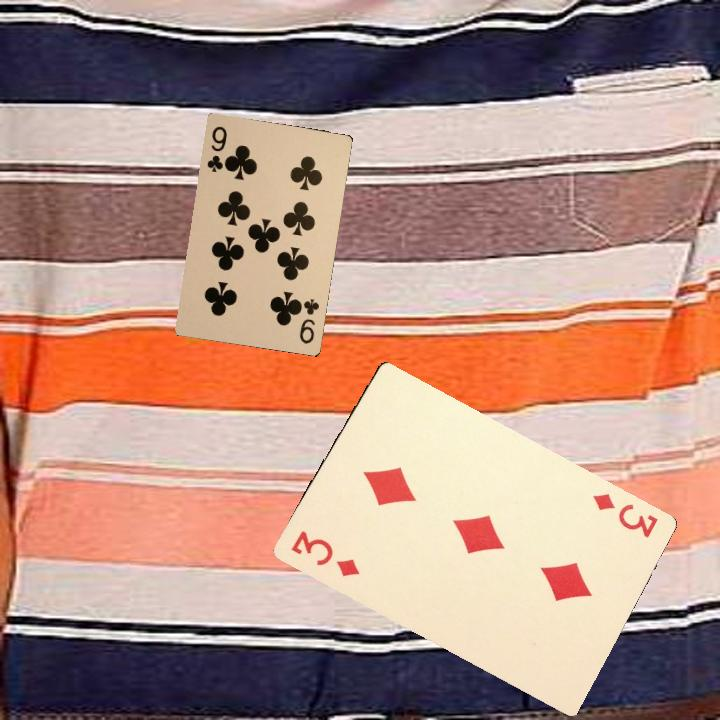3d: (287, 526, 363, 580), (588, 488, 661, 540)
9c: (295, 294, 322, 346), (203, 122, 230, 174)
